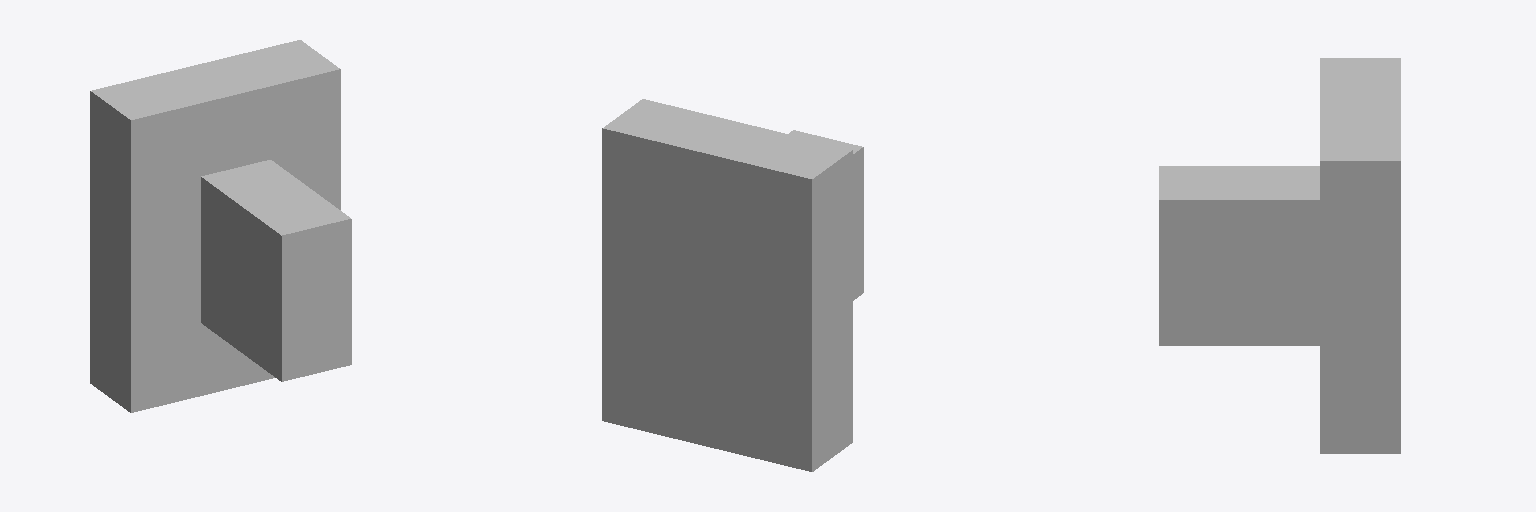
File: E2-Rep07-p04.obj
The picture shows the model from 3 angles: view 1: azimuth 30°, elevation 25°; view 2: azimuth 150°, elevation 25°; view 3: azimuth 270°, elevation 25°; orthographic projection.
Visible parts, largest first — view 1: mesh5, mesh3, mesh9, mesh10, mesh2, mesh8; view 2: mesh4, mesh3, mesh2, mesh9; view 3: mesh1, mesh7, mesh2, mesh8.
Part boxes in pixels (x1,y1,x2,y2): mesh5: (131,69,340,412); mesh3: (90,91,130,412); mesh9: (201,177,281,381); mesh10: (282,219,351,381); mesh2: (91,40,339,119); mesh8: (201,160,350,235); mesh4: (602,128,811,471); mesh3: (812,150,852,471); mesh2: (603,99,851,178); mesh9: (853,147,863,300); mesh1: (1320,161,1400,453); mesh7: (1159,200,1319,345); mesh2: (1320,58,1400,160); mesh8: (1159,166,1319,199).
Size of the model in its own units: 0.03 by 0.04 by 0.03.